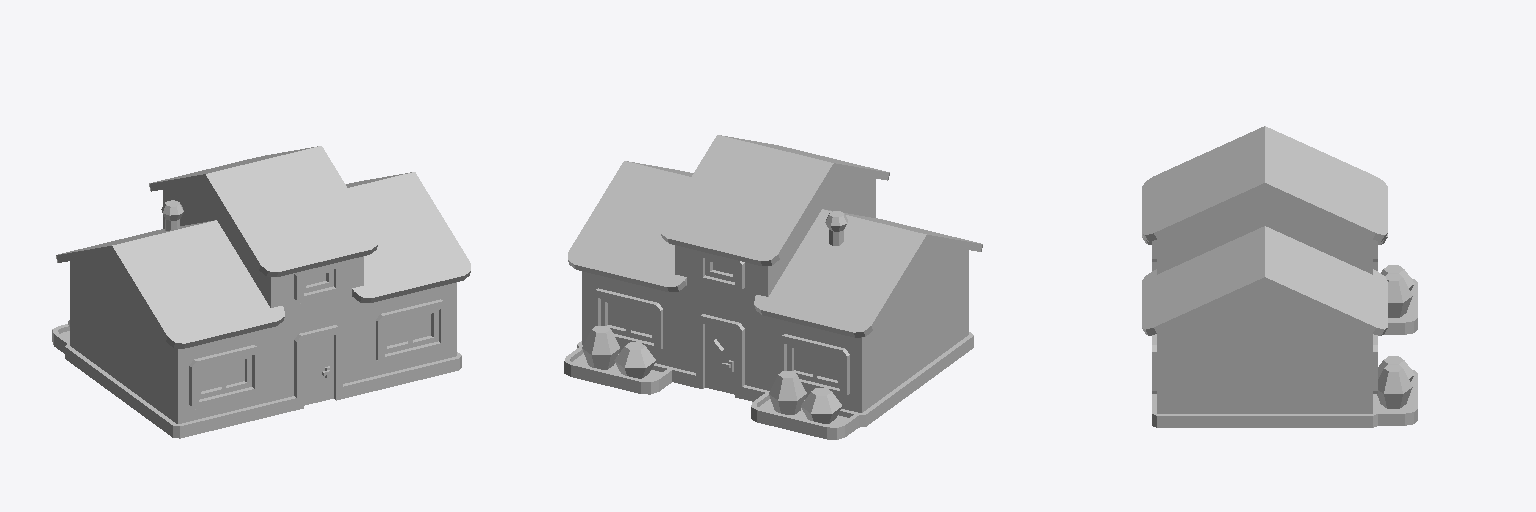
Rendered from suburban_building-type-a.obj.
3 renders of one model, left to right at view 1: azimuth 30°, elevation 25°; view 2: azimuth 150°, elevation 25°; view 3: azimuth 270°, elevation 25°, orthographic.
Visible parts, largest first — view 1: building-type-a; view 2: building-type-a; view 3: building-type-a.
Part boxes in pixels (x1,y1,x2,y2): building-type-a: (52, 146, 470, 438); building-type-a: (564, 135, 982, 439); building-type-a: (1142, 126, 1417, 427).
Bounding box in the file's own units: 1.3 × 0.8335 × 1.03.